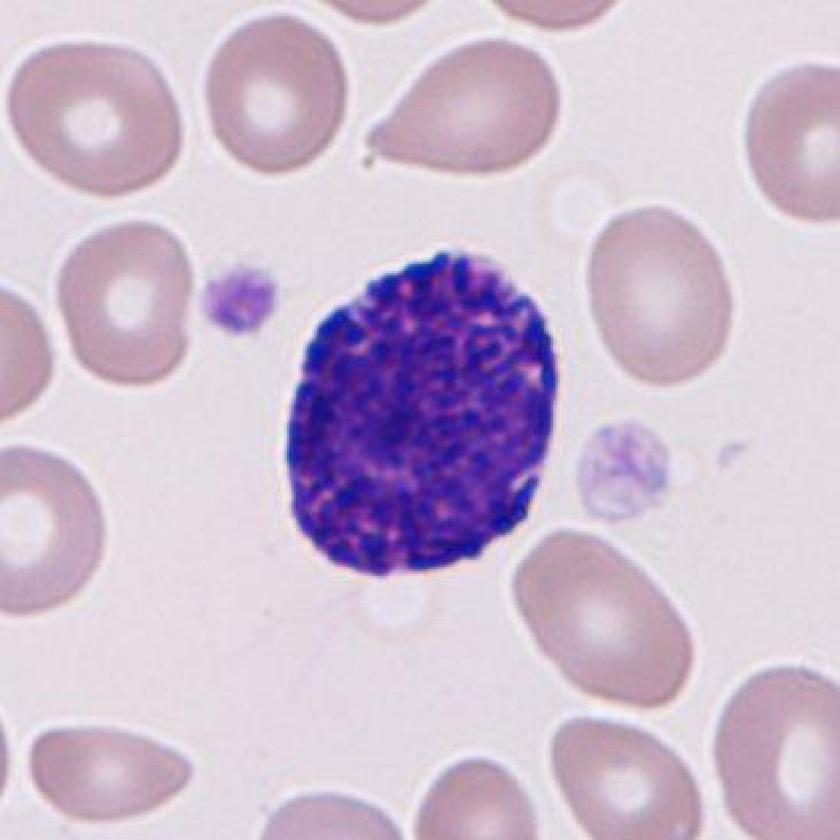basophil: (272, 235, 563, 593)
